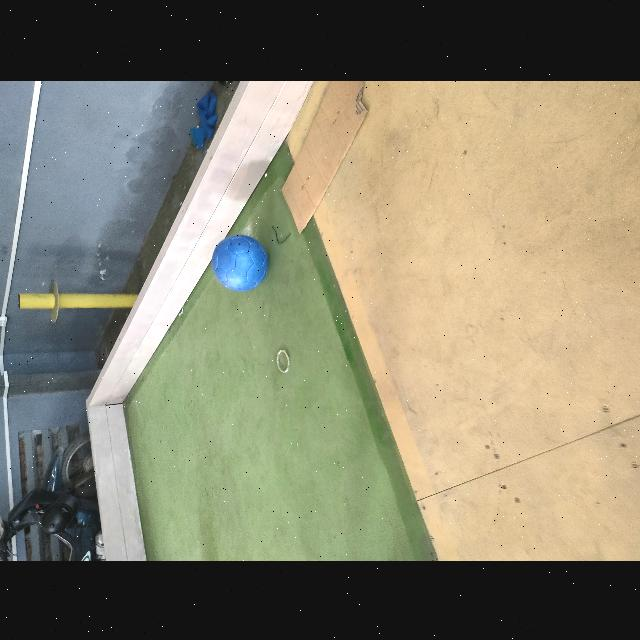B: (212, 234, 268, 290)
